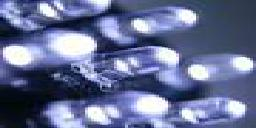LED: (92, 2, 196, 47), (53, 91, 168, 128), (5, 29, 89, 71), (86, 47, 181, 81), (170, 95, 247, 128), (186, 53, 252, 84)
